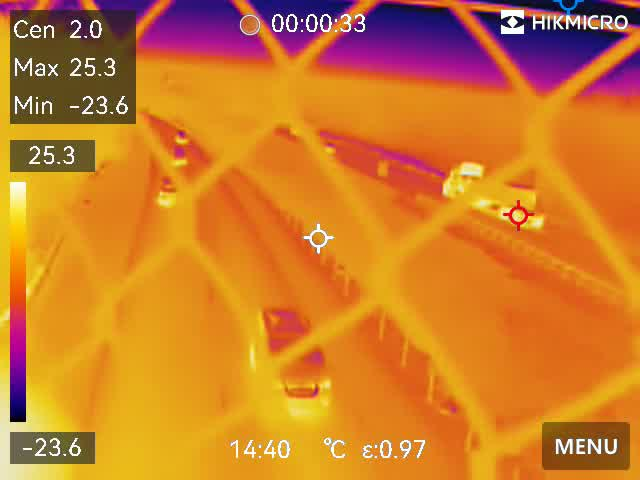heavyTruck: (439, 162, 555, 230)
vehicle: (251, 303, 331, 417), (159, 169, 177, 206), (166, 145, 192, 166), (174, 127, 193, 144)
